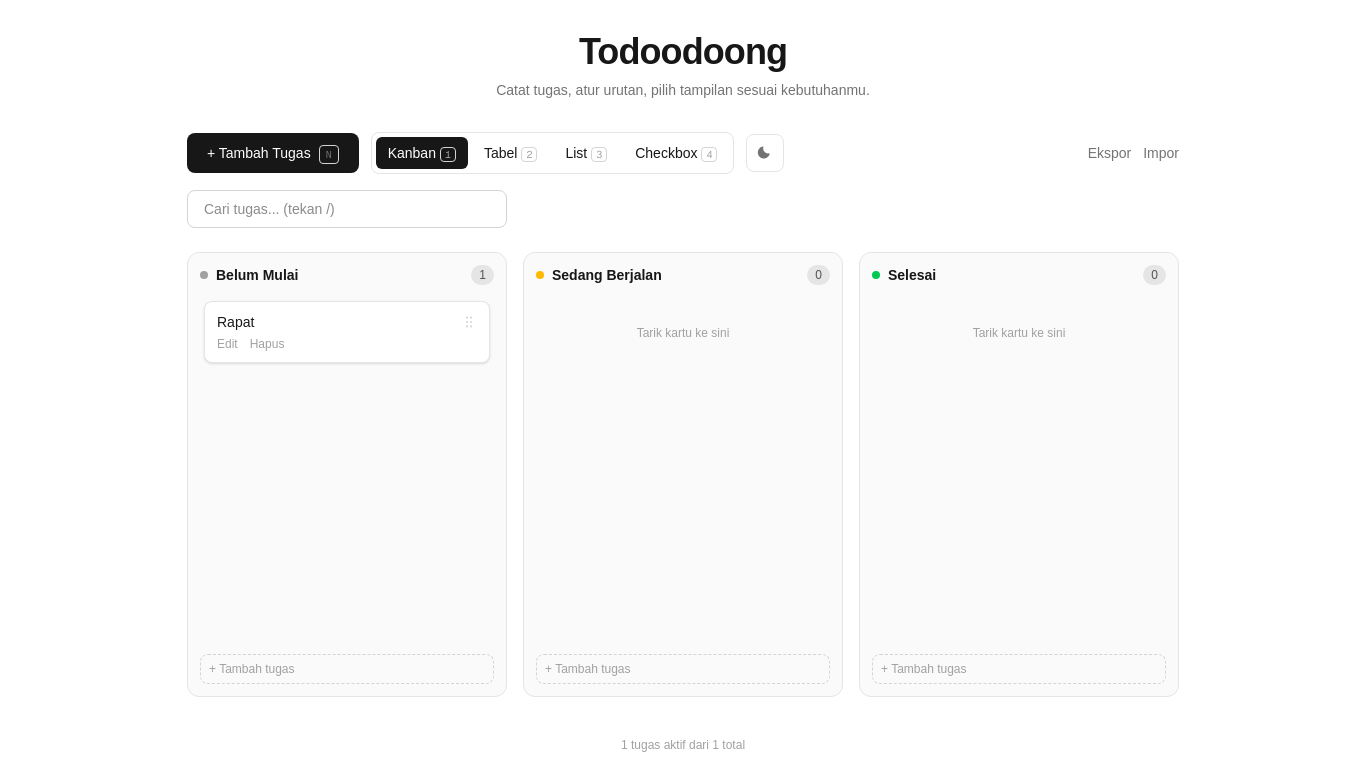
Test: TodoApp alur inti › menghapus tugas dengan konfirmasi lalu mengurungkannya
Click the button with aria-label "Hapus tugas" at (267, 344), box [250,336,284,352]
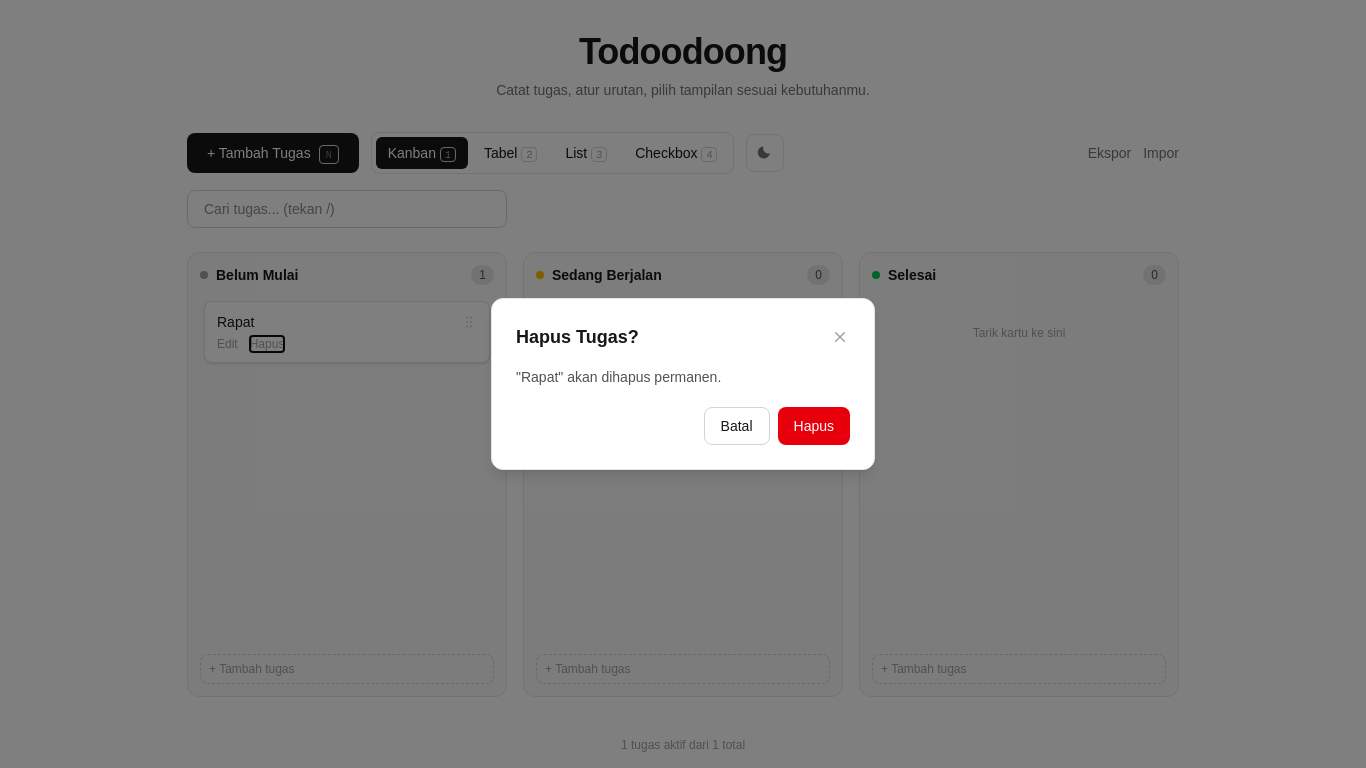
Click the button "Hapus" at (814, 426), box [778,407,850,445]
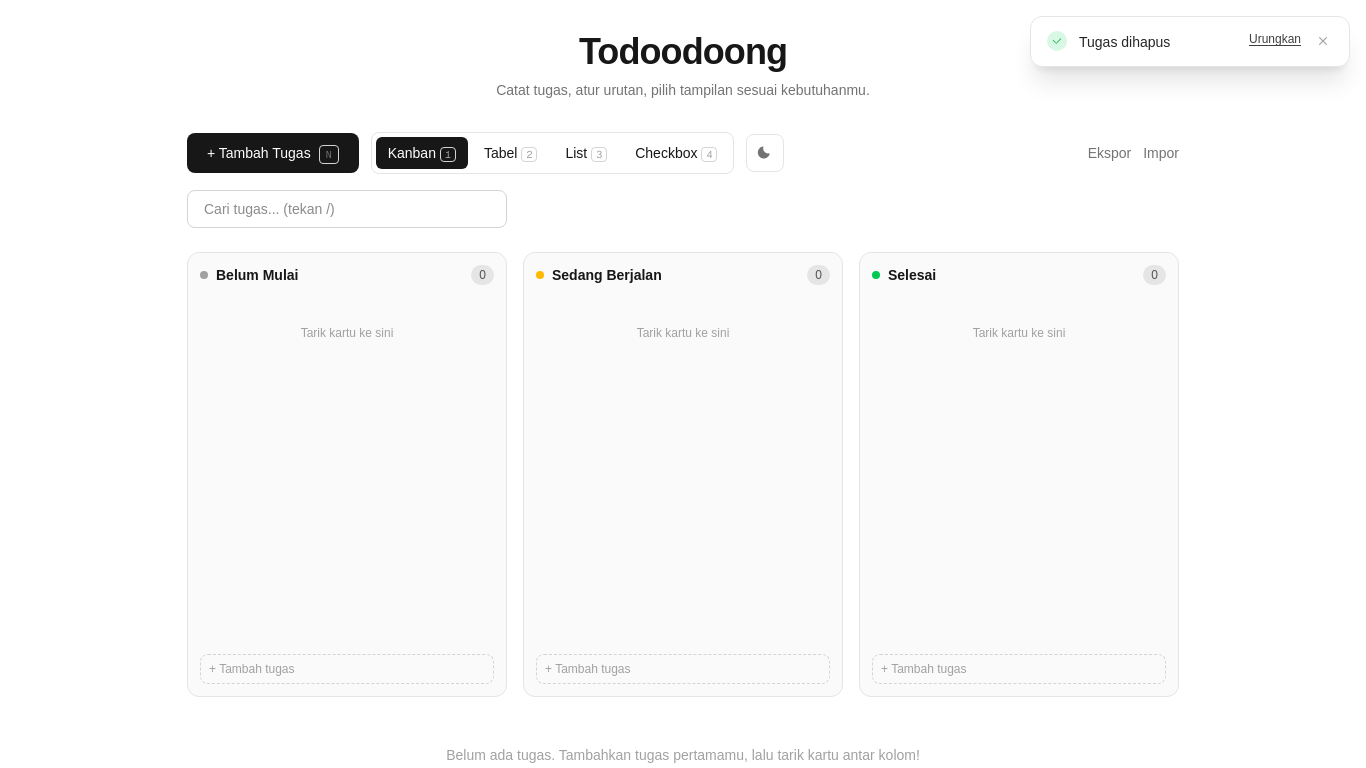
Expected: the text "Tugas dihapus" is shown, [1079,34,1170,50]
Click the button "Urungkan" at (1275, 39), box [1249,31,1301,47]
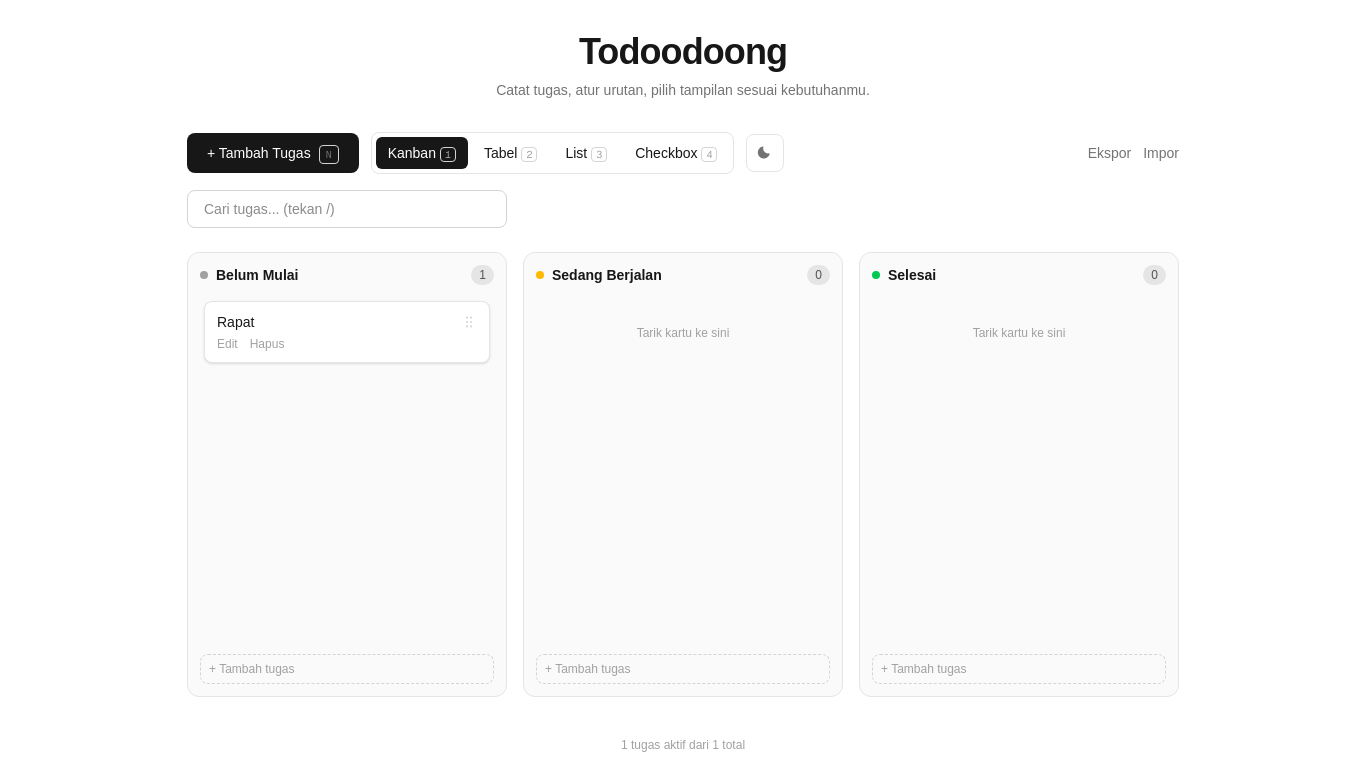
Expected: the text "Rapat" is shown, [217,314,254,330]
